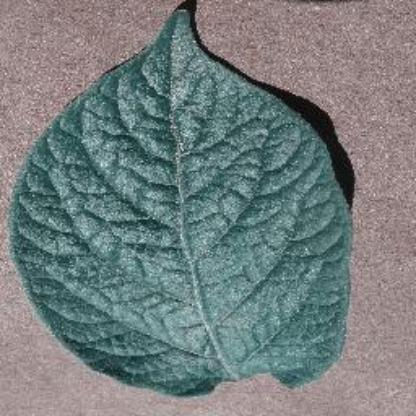Healthy-plant: (7, 10, 357, 402)
